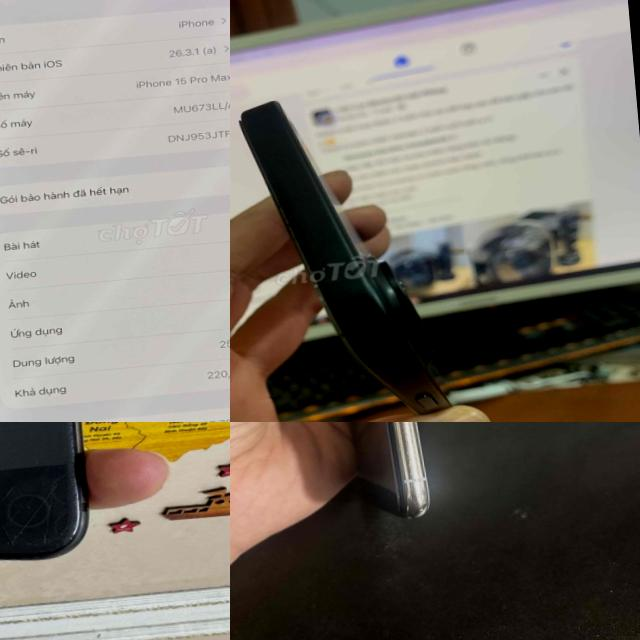gen_15: (0, 0, 230, 422)
gen_16: (240, 101, 448, 413)
gen_7_8: (0, 422, 103, 590)
gen_x_xs: (312, 422, 433, 525)
scratch: (0, 462, 88, 559), (345, 422, 430, 518)
